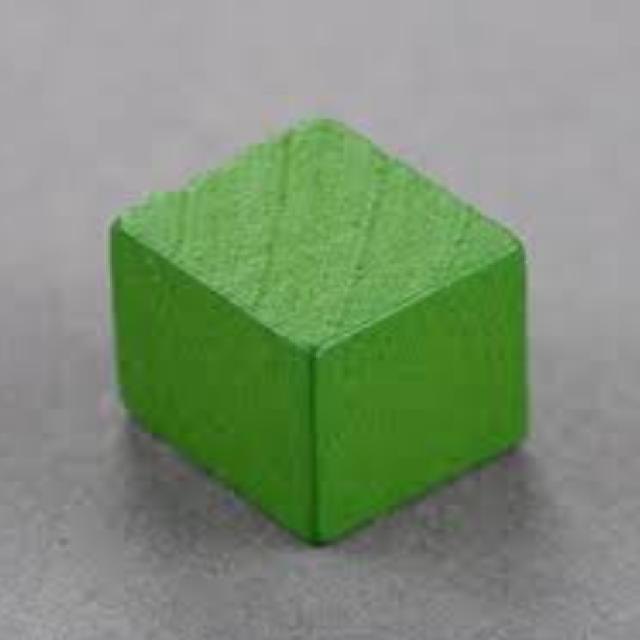green cube: (107, 109, 532, 553)
